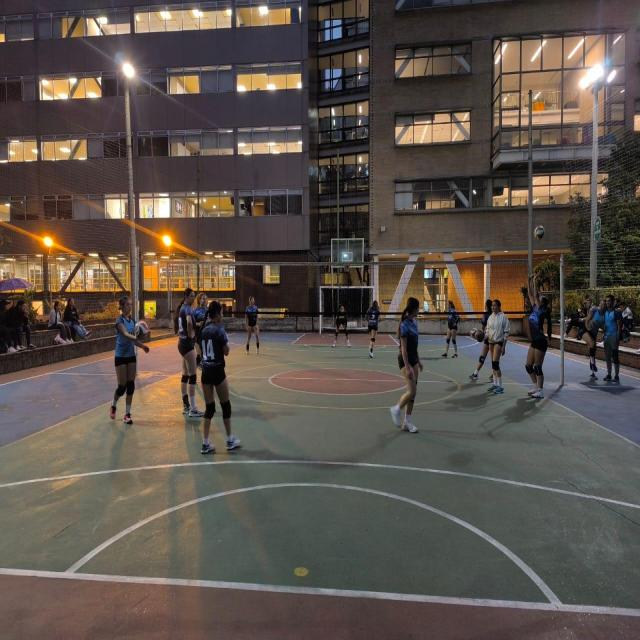volleyball: (134, 321, 149, 340), (534, 226, 545, 240), (476, 329, 484, 342), (470, 328, 478, 338)
